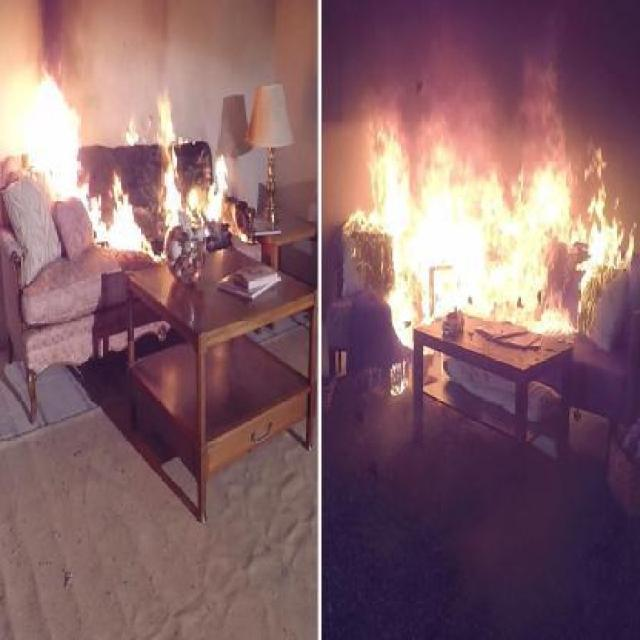Fire: (384, 113, 572, 344), (362, 98, 568, 166), (14, 73, 84, 195), (580, 193, 631, 272), (106, 176, 146, 255), (157, 95, 180, 228), (210, 156, 224, 230), (342, 206, 375, 234), (89, 198, 108, 246), (185, 188, 204, 209), (127, 122, 136, 136)
